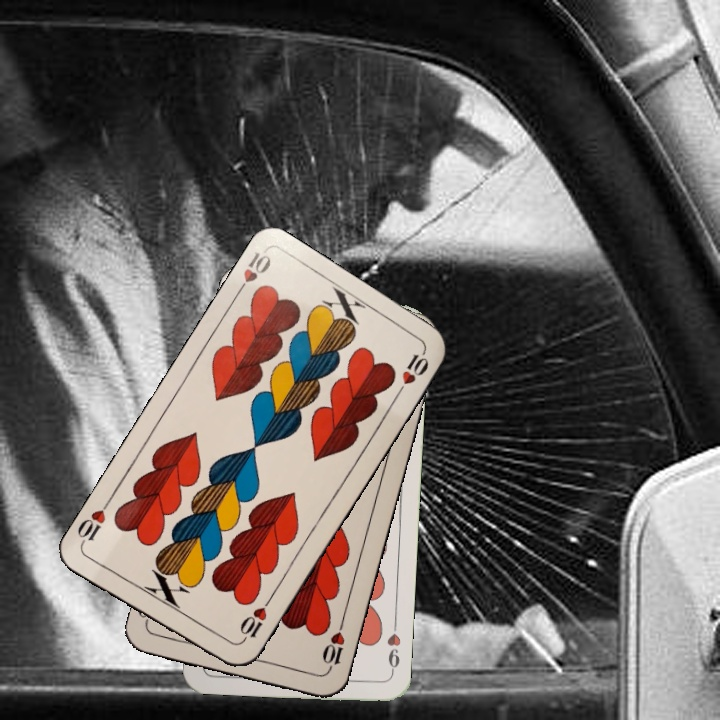H10: (231, 247, 274, 300), (235, 594, 274, 646), (318, 617, 348, 675)
H9: (383, 618, 403, 677)
